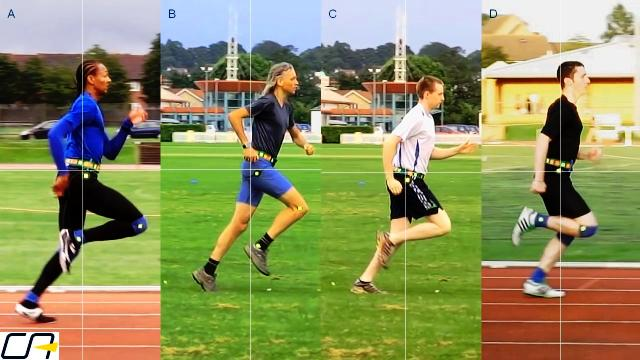berlari: (15, 58, 152, 320), (188, 63, 316, 295), (349, 64, 458, 301), (508, 52, 606, 307)
